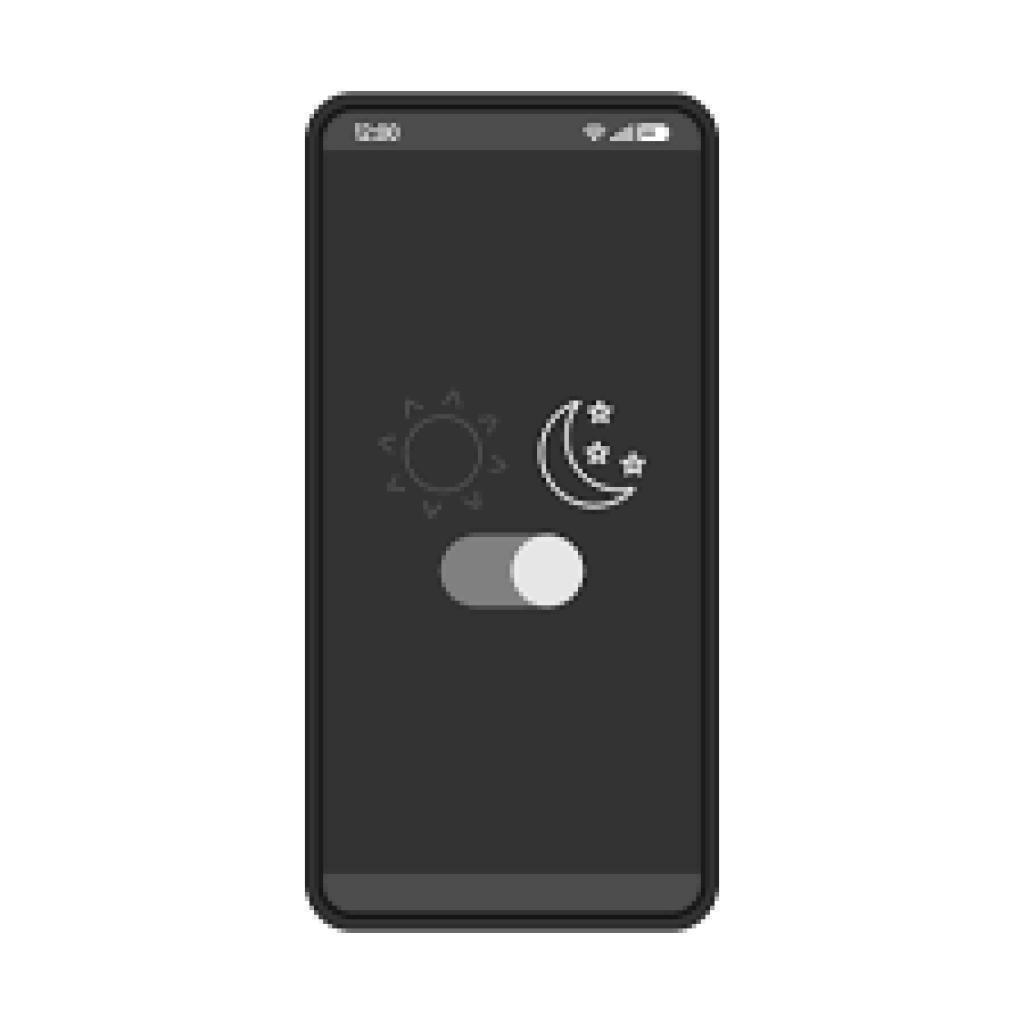switch: (440, 535, 587, 610)
